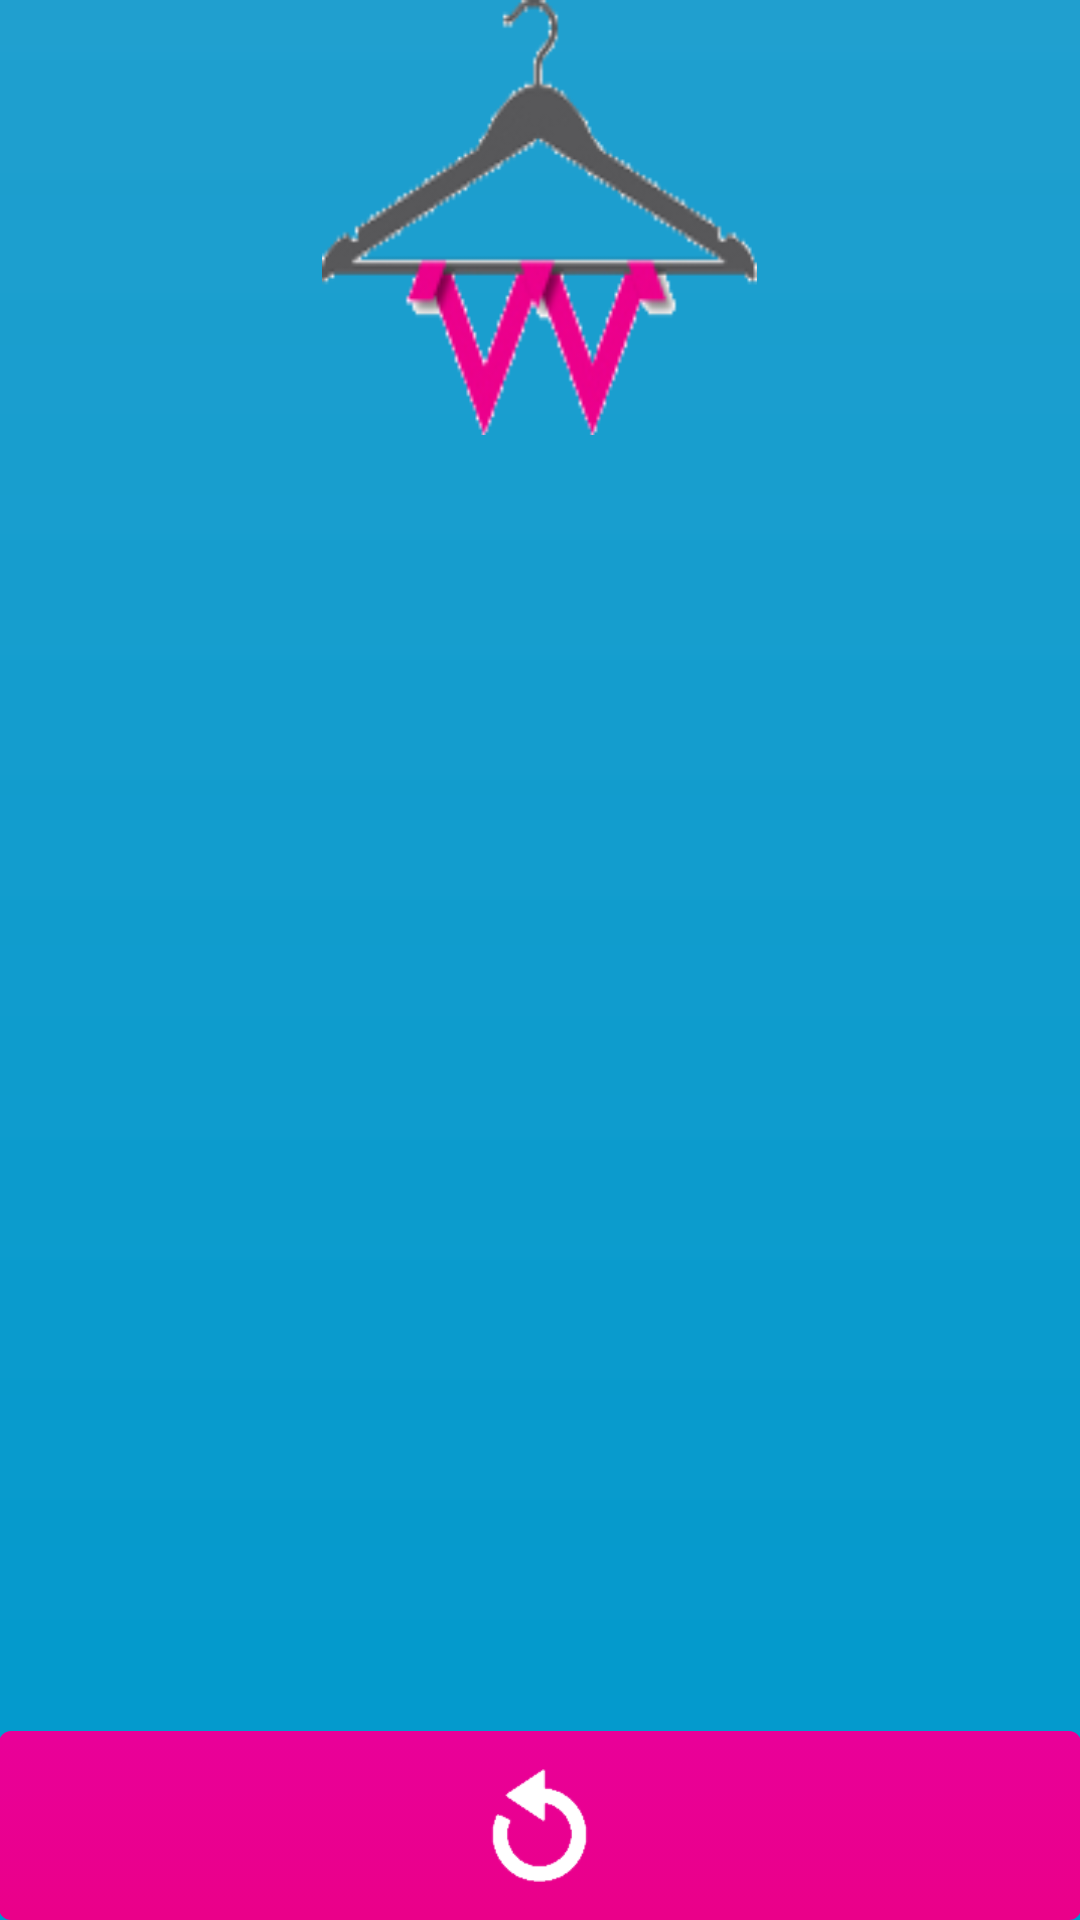

Screen size 1080px×1920px. Icon name, then its center in pixels as [x,y]:
replay: [539,1825]
